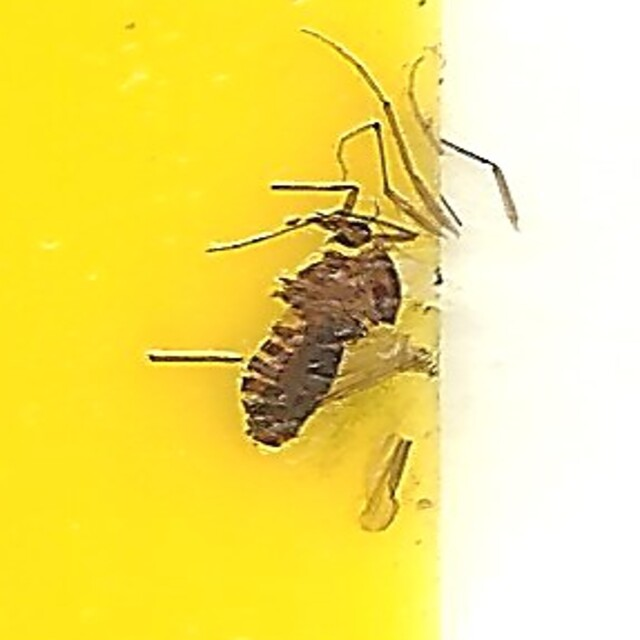Nematocera: (223, 186, 417, 454)
